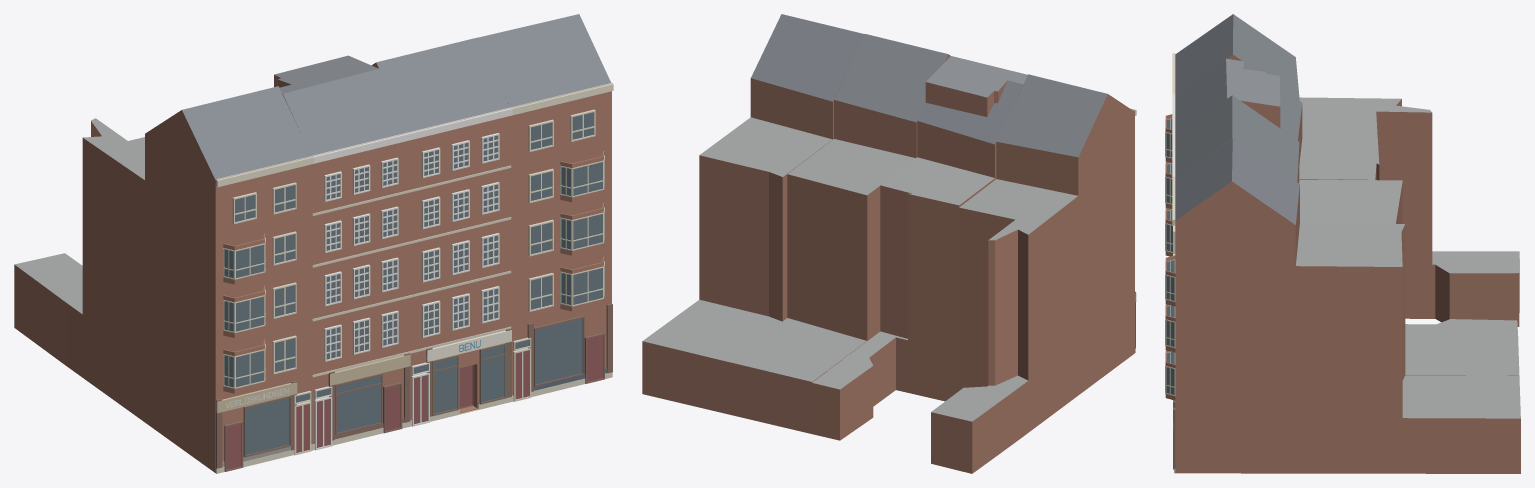
The model's file is chunk-bilder-080336-x4.glb.
3 renders of one model, left to right at view 1: azimuth 30°, elevation 25°; view 2: azimuth 150°, elevation 25°; view 3: azimuth 270°, elevation 25°, orthographic. The views are drawn at different scales.
Parts seen in each view (by area): view 1: bilder-080336-x4; view 2: bilder-080336-x4; view 3: bilder-080336-x4.
Boxes of the visible parts, x1,y1,x2,y2 form: bilder-080336-x4: (14, 14, 613, 473); bilder-080336-x4: (642, 14, 1136, 473); bilder-080336-x4: (1165, 14, 1520, 473).
Bounding box in the file's own units: 22.79 × 18.52 × 20.38.
